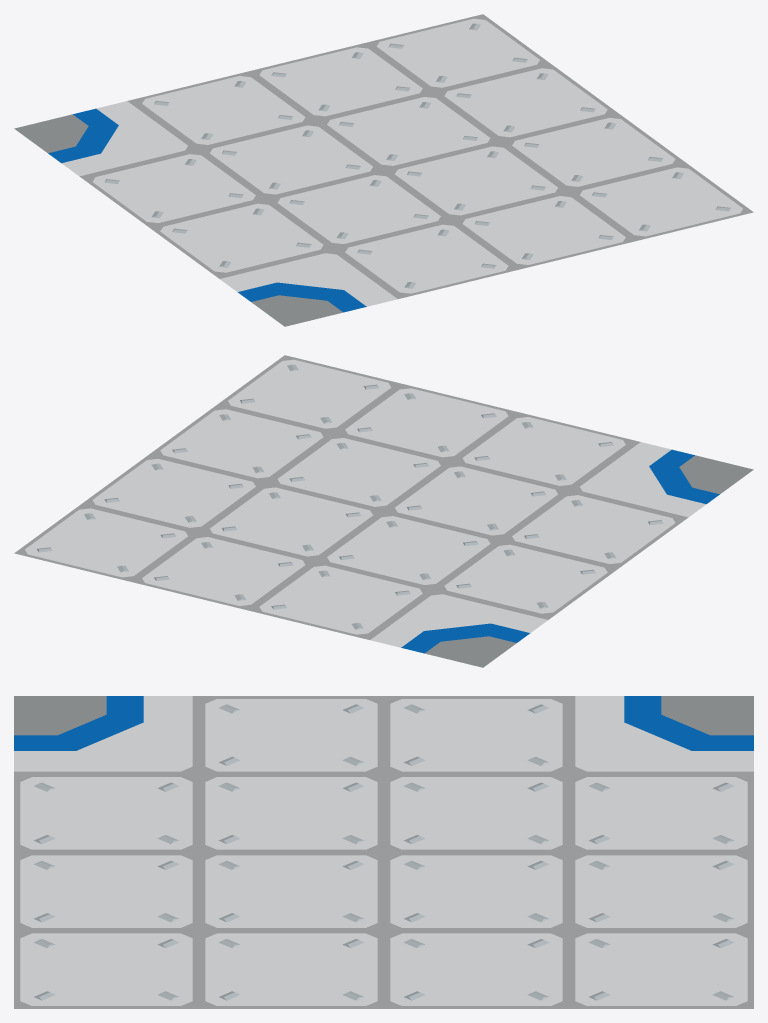
File: Floor_type_A_017.fbx
3 renders of one model, top to bottom at view 1: azimuth 30°, elevation 25°; view 2: azimuth 150°, elevation 25°; view 3: azimuth 270°, elevation 25°, orthographic. The views are drawn at different scales.
Visible parts, largest first — view 1: Floor_type_A_017; view 2: Floor_type_A_017; view 3: Floor_type_A_017.
Part boxes in pixels (x1,y1,x2,y2): Floor_type_A_017: (14, 14, 753, 326); Floor_type_A_017: (14, 355, 753, 667); Floor_type_A_017: (14, 696, 753, 1008).
Size of the model in its own units: 400 by 400 by 0.8.
